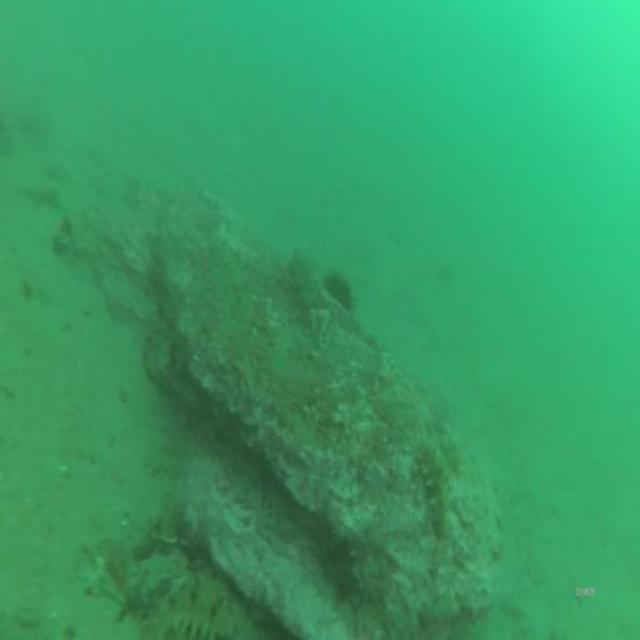echinus: (319, 264, 357, 316)
holothurian: (146, 562, 282, 640), (415, 439, 457, 550), (284, 244, 330, 338)
